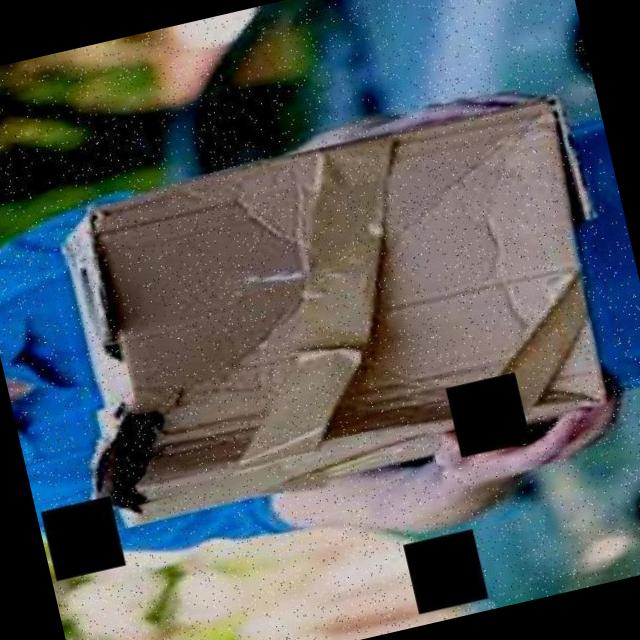box: (19, 73, 640, 550)
